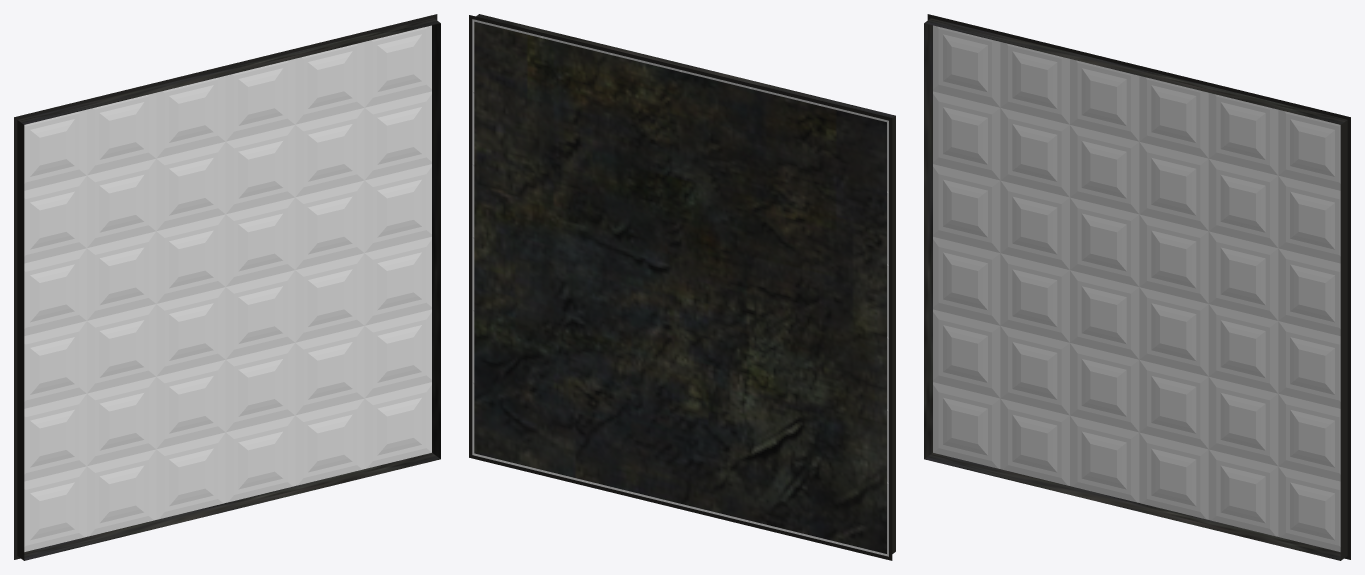
Rendered from streetMap384x384AWire_wtf.obj.
The picture shows the model from 3 angles, left to right: view 1: azimuth 30°, elevation 25°; view 2: azimuth 150°, elevation 25°; view 3: azimuth 330°, elevation 25°; orthographic projection.
Parts seen in each view (by area): view 1: group3, group4; view 2: group4, group3; view 3: group3, group4.
Boxes of the visible parts, <box> form: group3: <box>24,25,431,551</box>; group4: <box>14,14,440,560</box>; group4: <box>469,14,895,560</box>; group3: <box>472,19,888,556</box>; group3: <box>933,25,1340,551</box>; group4: <box>924,14,1350,560</box>.
Size of the model in its own units: 660 by 660 by 18.62.
